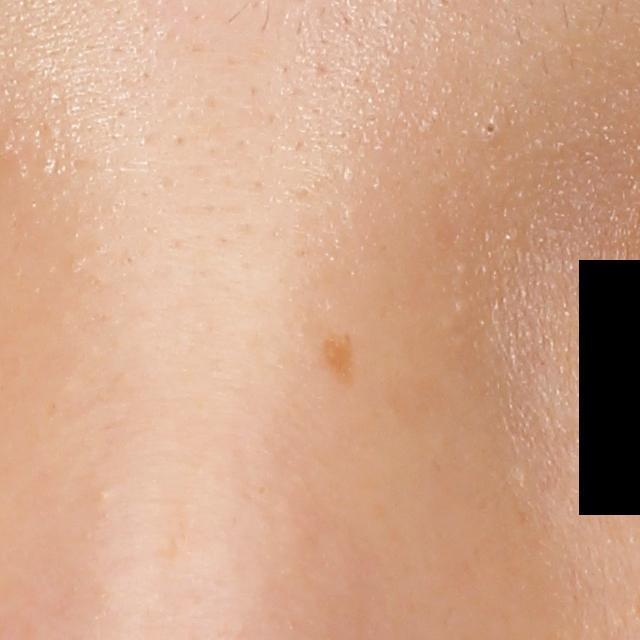comedo: (475, 115, 504, 144), (94, 486, 113, 502)
melasma: (319, 333, 361, 392)
